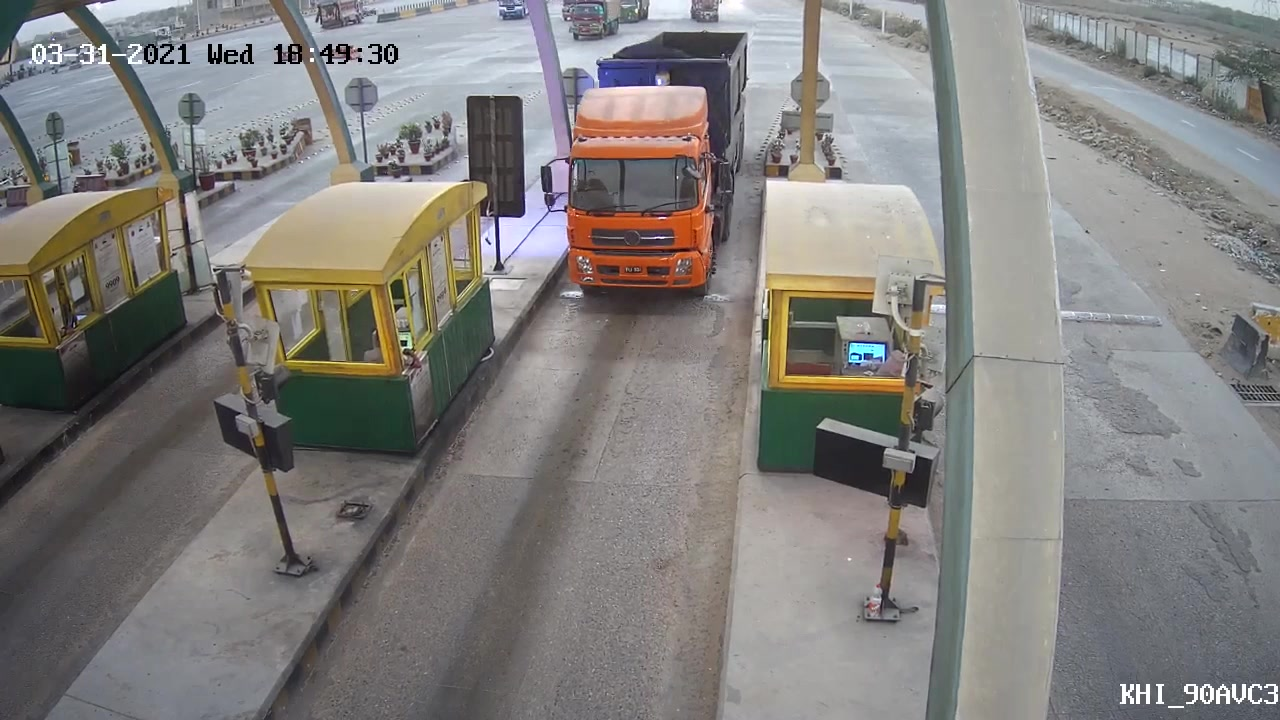F5: (539, 92, 751, 298)
